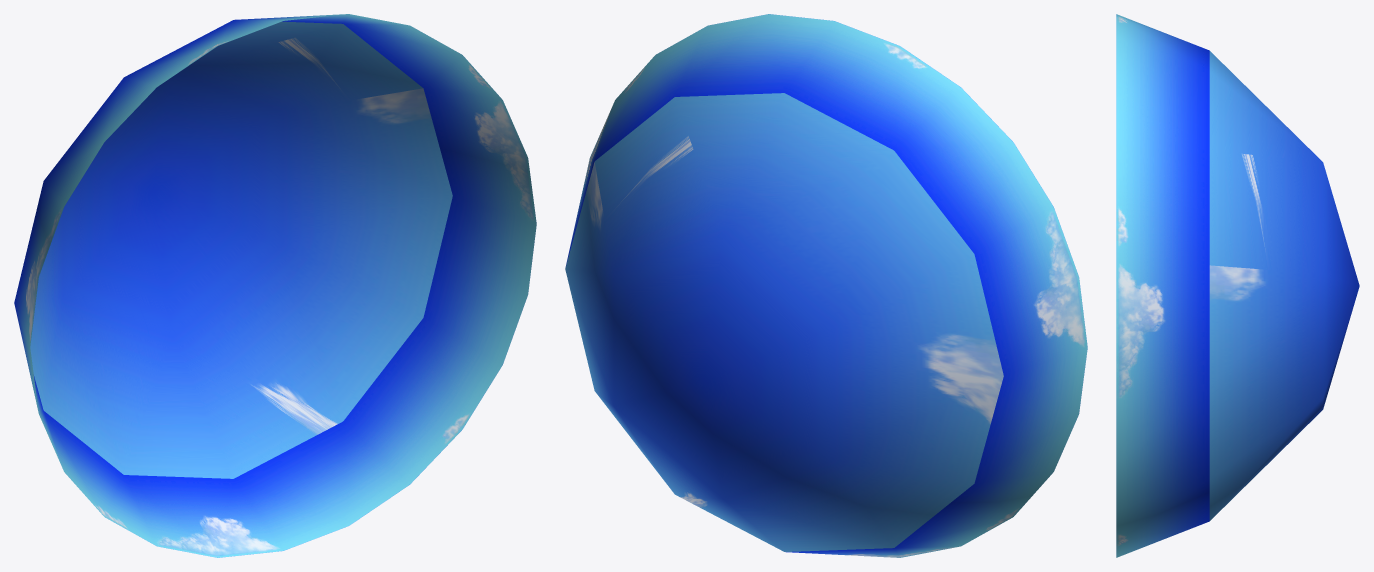
Rendered from polygon1.011.obj.
3 views of the same model, side by side, from view 1: azimuth 30°, elevation 25°; view 2: azimuth 150°, elevation 25°; view 3: azimuth 270°, elevation 25° (orthographic). The views are drawn at different scales.
Parts seen in each view (by area): view 1: polygon1.003; view 2: polygon1.003; view 3: polygon1.003.
Part boxes in pixels (bbox=[...]): polygon1.003: bbox=[14, 14, 536, 557]; polygon1.003: bbox=[565, 14, 1087, 557]; polygon1.003: bbox=[1116, 14, 1359, 557].
Size of the model in its own units: 140000 by 140000 by 62425.
Materials: 2 (2 with a texture image).
